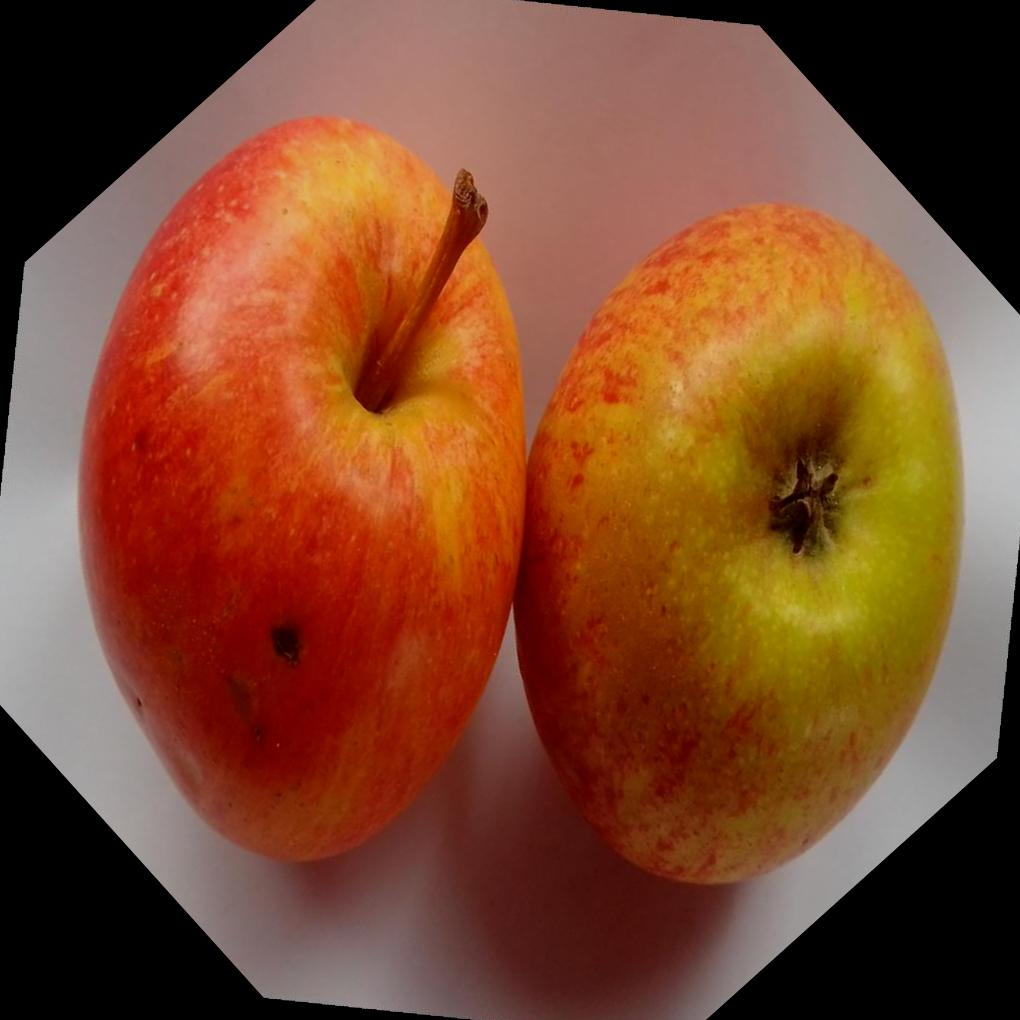FreshGuava: (72, 110, 965, 885)
